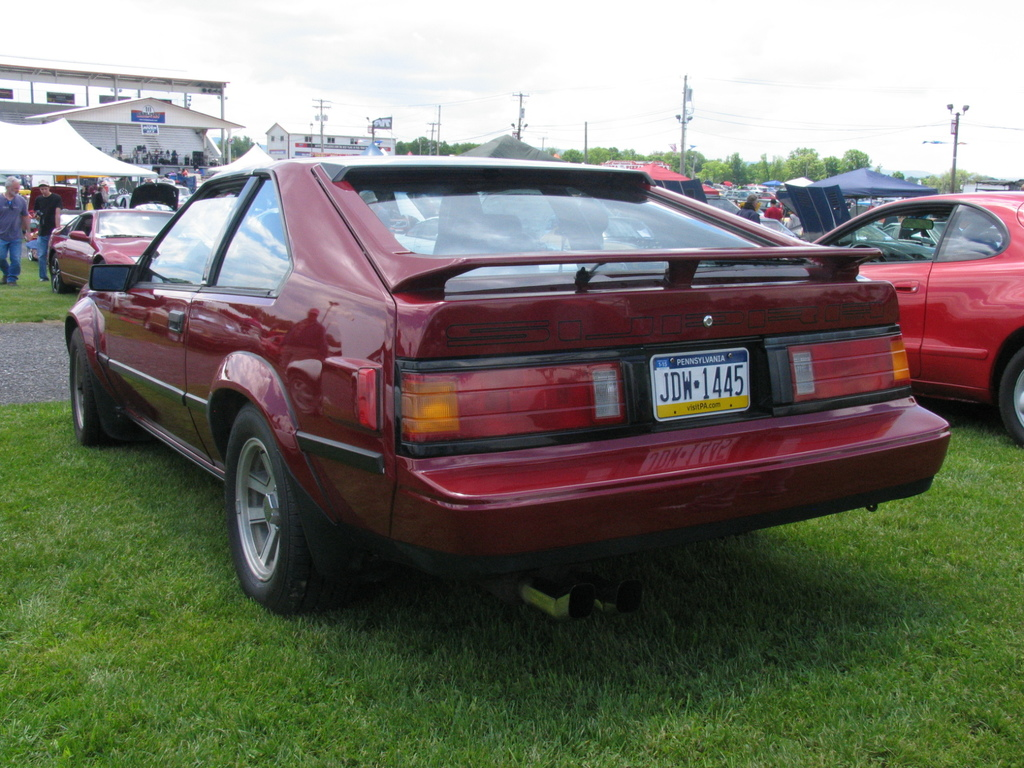Car: (24, 158, 1023, 615)
